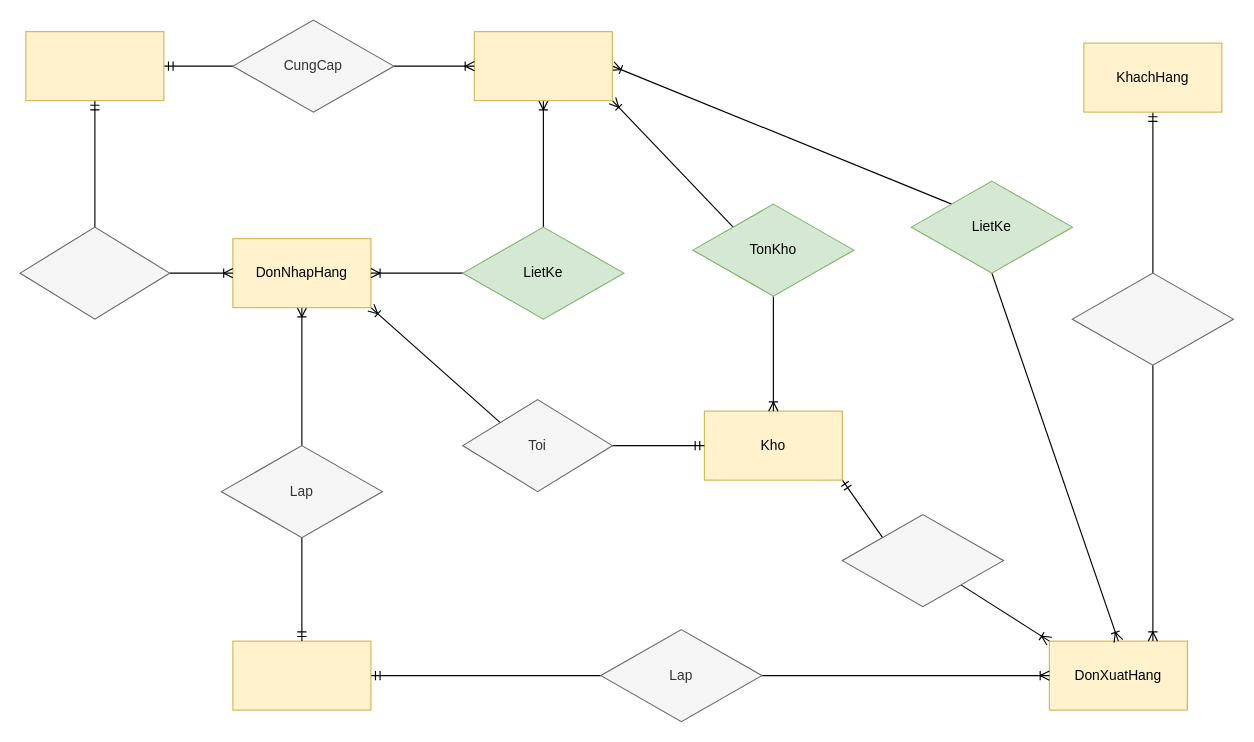
Image size: 1254x742. Some labels were removed from this diagram. Here are the shapes that lost their labels. From the top down, the centre of each, then its label:
At (94,65): "NhaCungCap".
At (542,65): "SanPham".
At (94,272): "Tao".
At (1152,318): "Mua".
At (922,560): "Chuyen".
At (301,675): "NhanVien".
